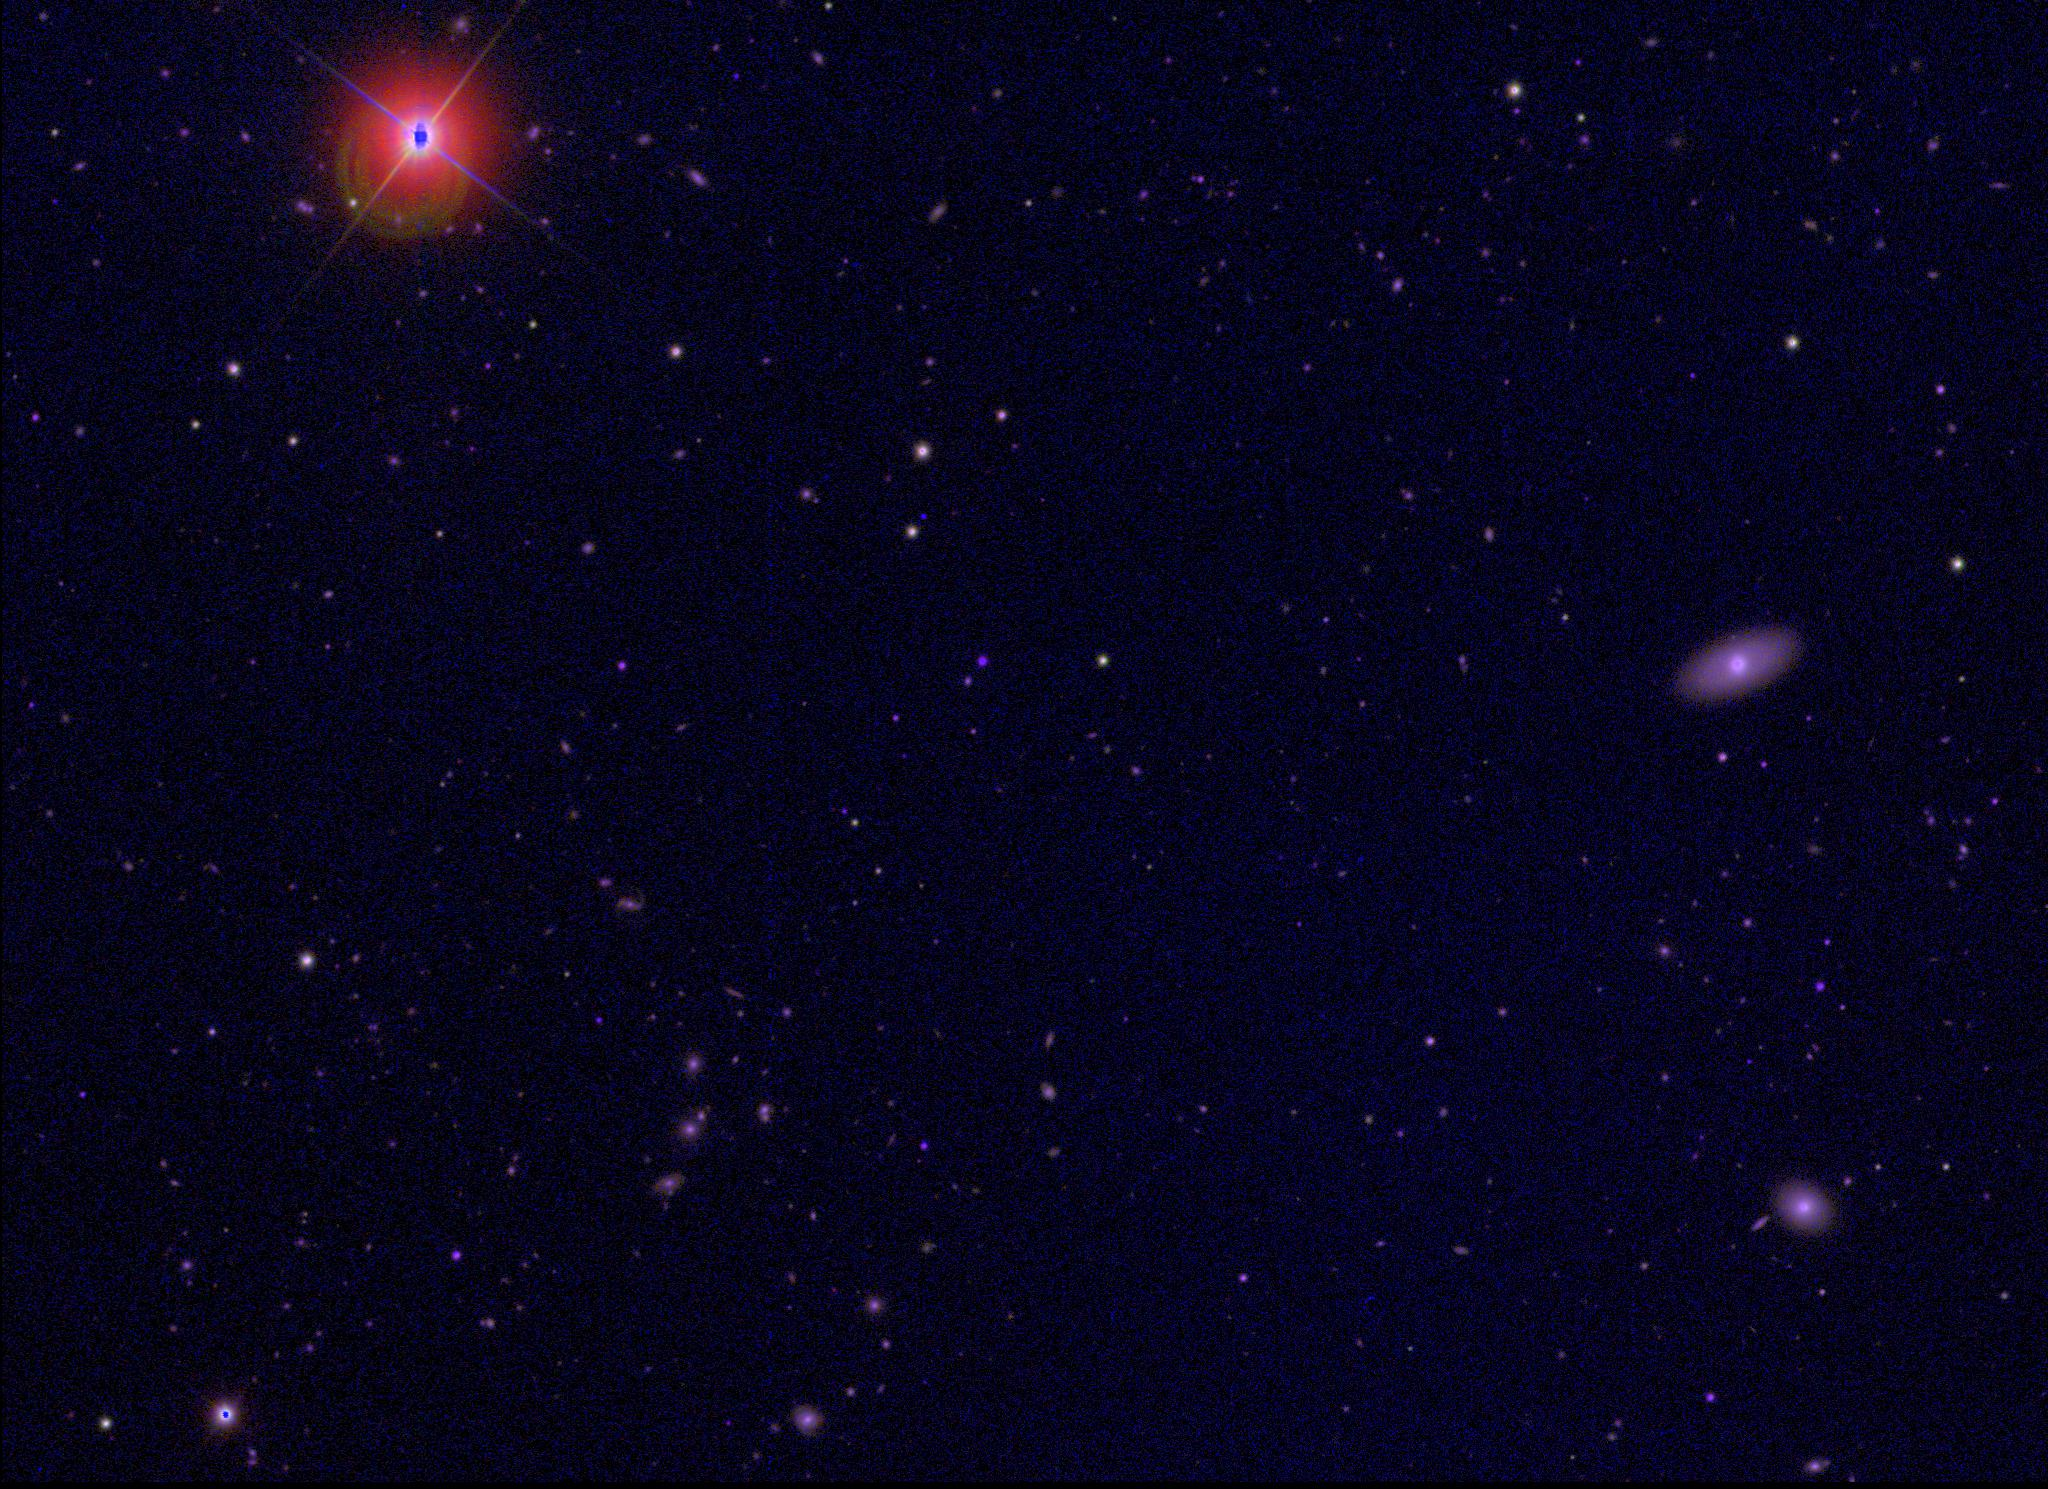L: (914, 509, 929, 523)
